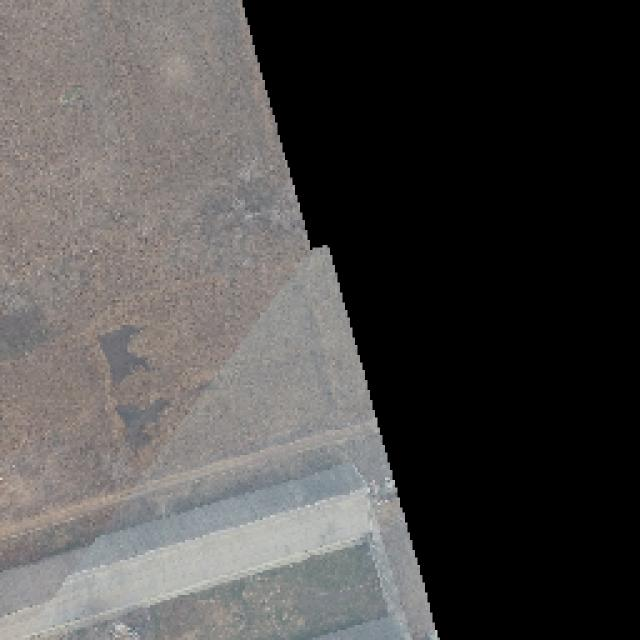Batiment: (0, 465, 371, 639)
